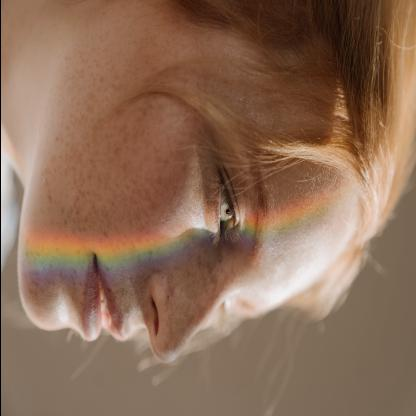Eye: (201, 155, 242, 242), (212, 295, 235, 327)
Mouth: (78, 247, 129, 343)
Nose: (143, 255, 233, 362)
